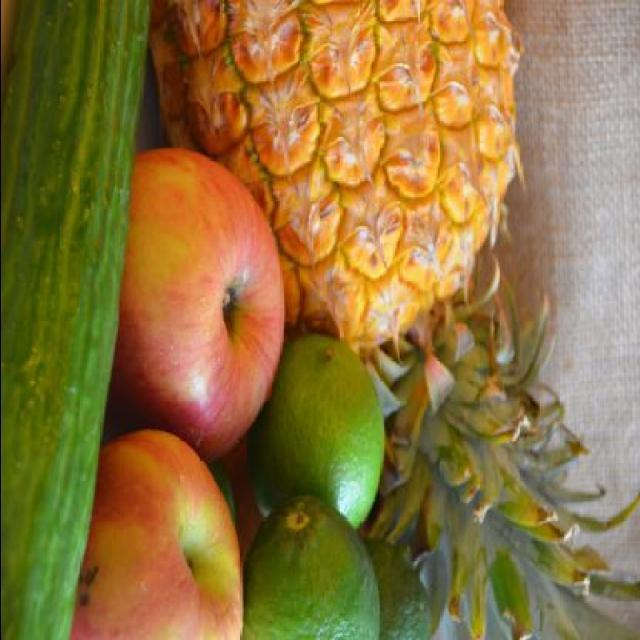Pineapple: (151, 0, 640, 638)
